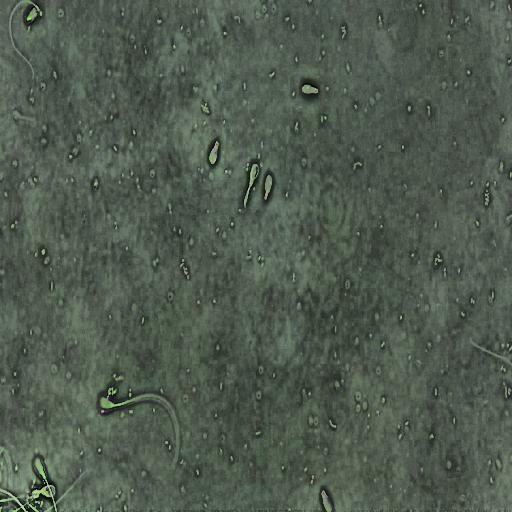coiled-tail: (244, 185, 252, 205), (32, 489, 42, 498)
loose-head: (207, 139, 220, 168), (263, 171, 274, 202), (320, 488, 334, 512), (299, 81, 319, 97)
loose-tail: (8, 0, 44, 81)
normal: (100, 395, 178, 474), (242, 158, 261, 209), (30, 483, 57, 500)
